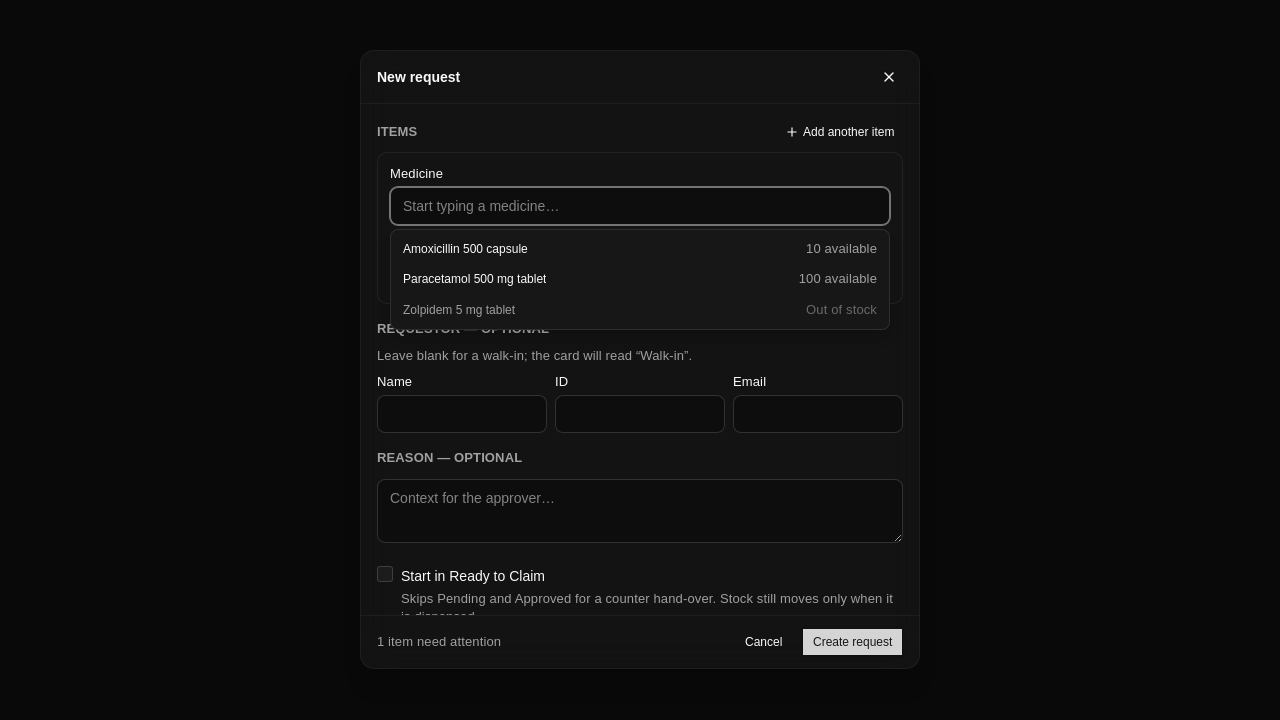
Test: NewRequestModal stock validation (spec §4–§6) › keeps submit blocked while any row blocks, across rows
Type "Paracetamol 500 mg tablet" into the dropdown with placeholder "Start typing a medicine…". click: (640, 207)
box: [390,188,890,226]
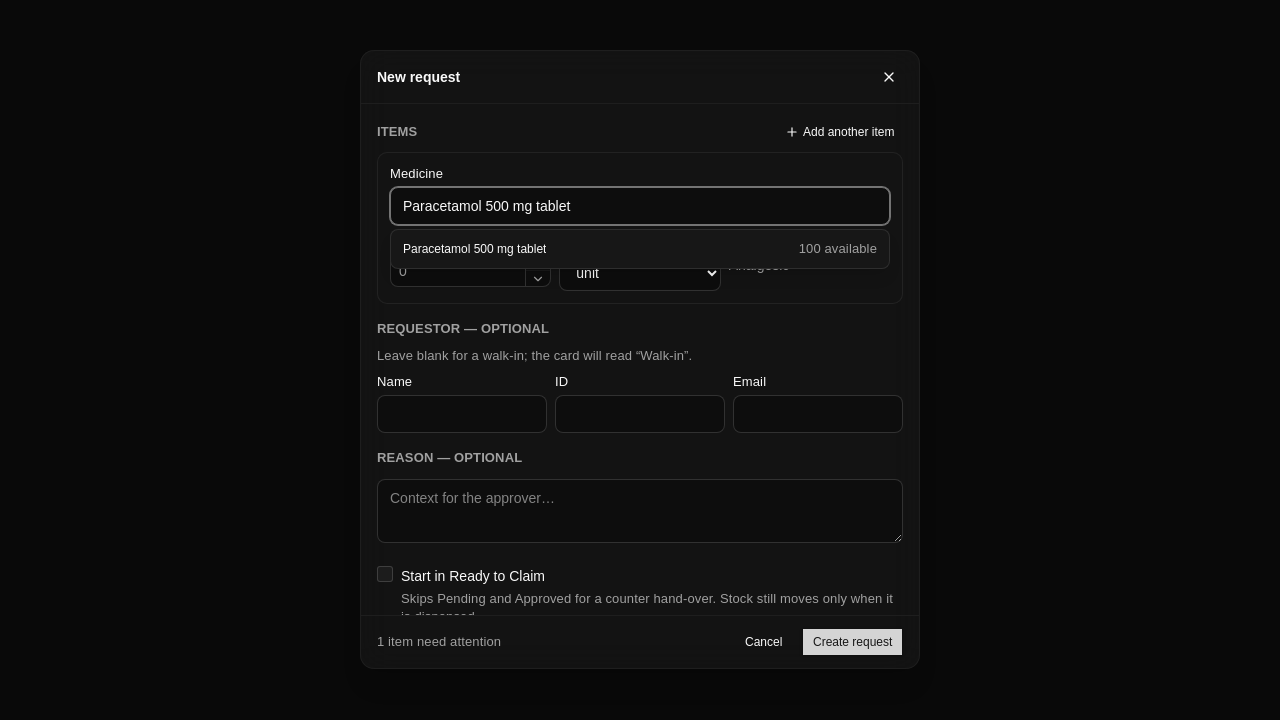
Select "tabs" in the dropdown labelled "Unit". click: (640, 274)
box: [559,256,721,292]
Type "5" into the number field named "Quantity". click: (458, 272)
box: [391,257,525,287]
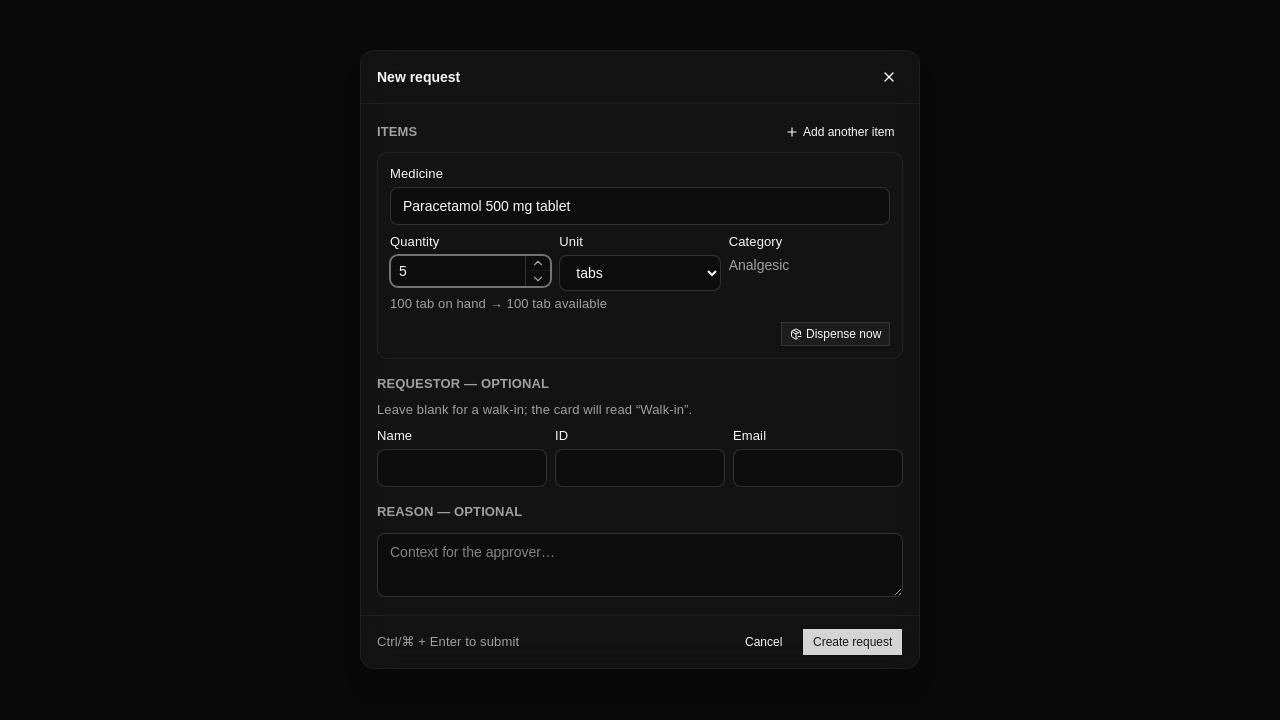
Click the button "Add another item". click: (839, 132)
box: [776,120,903,144]
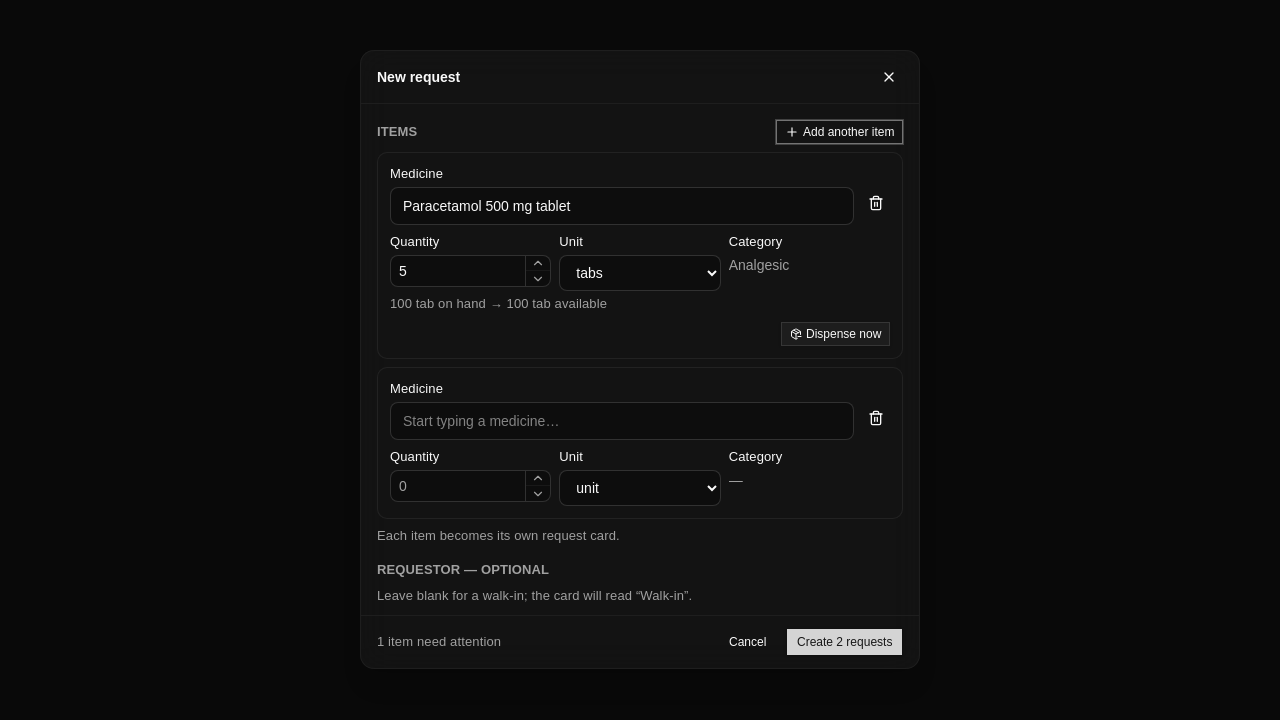
Type "Zolpidem 5 mg tablet" into the 2nd dropdown with placeholder "Start typing a medicine…". click: (622, 421)
box: [390,402,854,440]
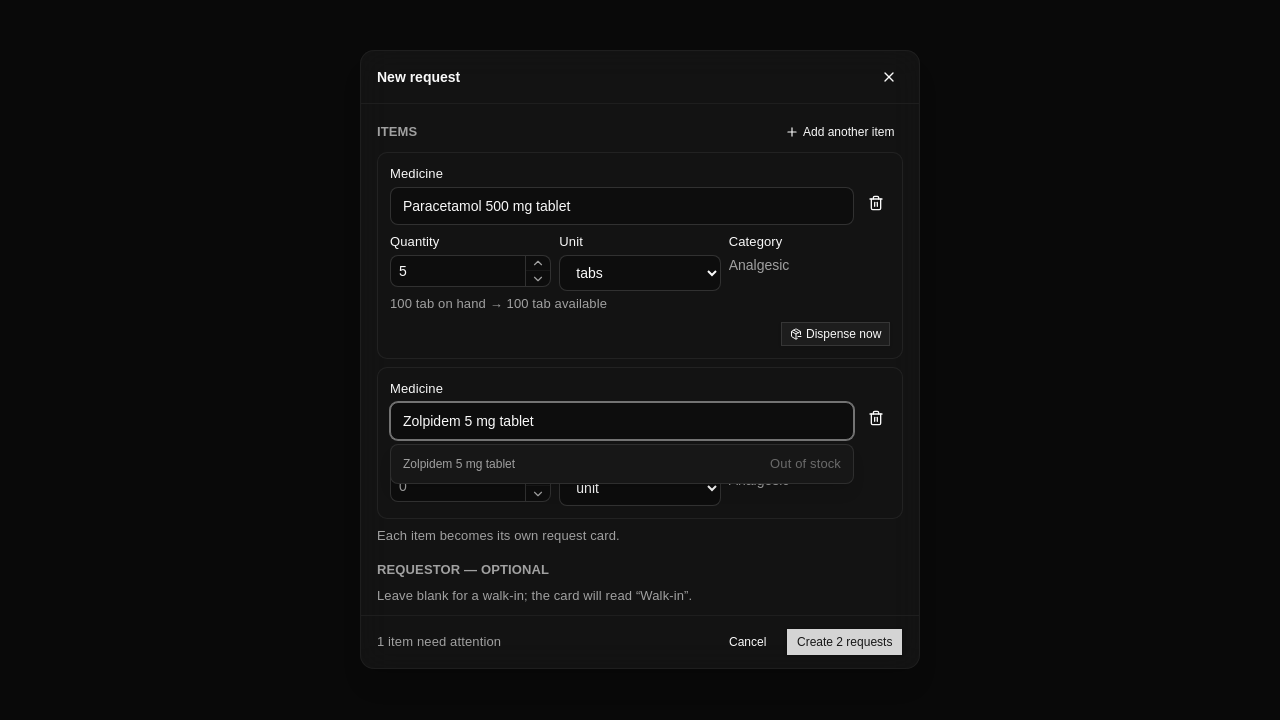
Select "tabs" in the 2nd dropdown labelled "Unit". click: (640, 488)
box: [559,470,721,506]
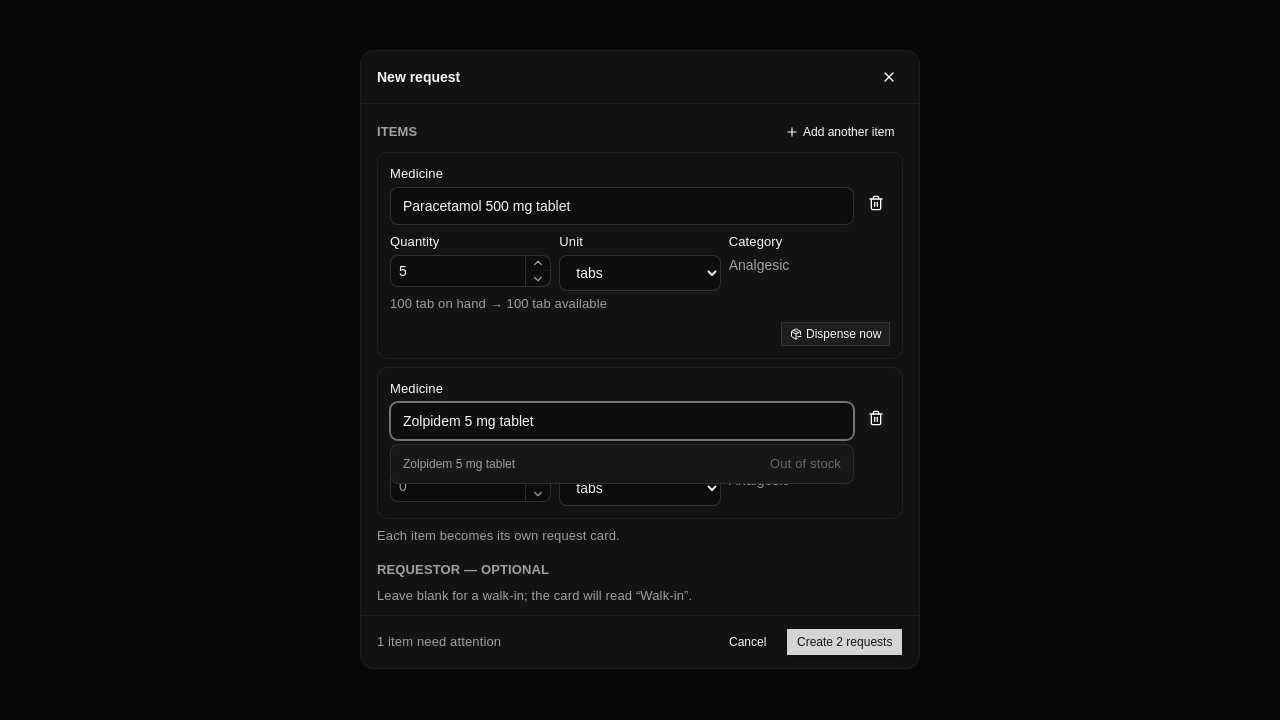
Type "5" into the number field named "Quantity". click: (458, 486)
box: [391,471,525,501]
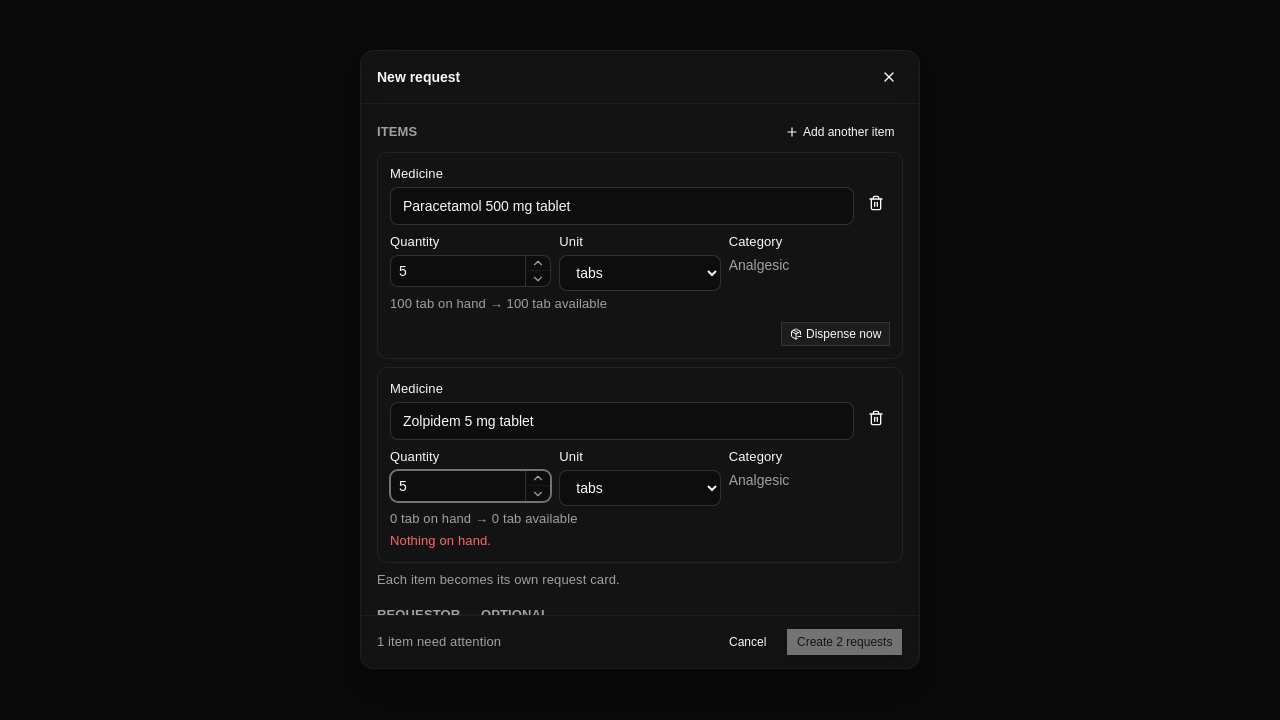
Expected: the text "Nothing on hand." is shown, [390,534,491,548]
Expected: the button "Create 2 requests" is disabled, [786,629,903,657]
